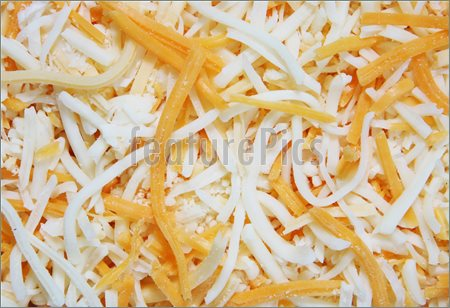cheese: (30, 31, 419, 297)
